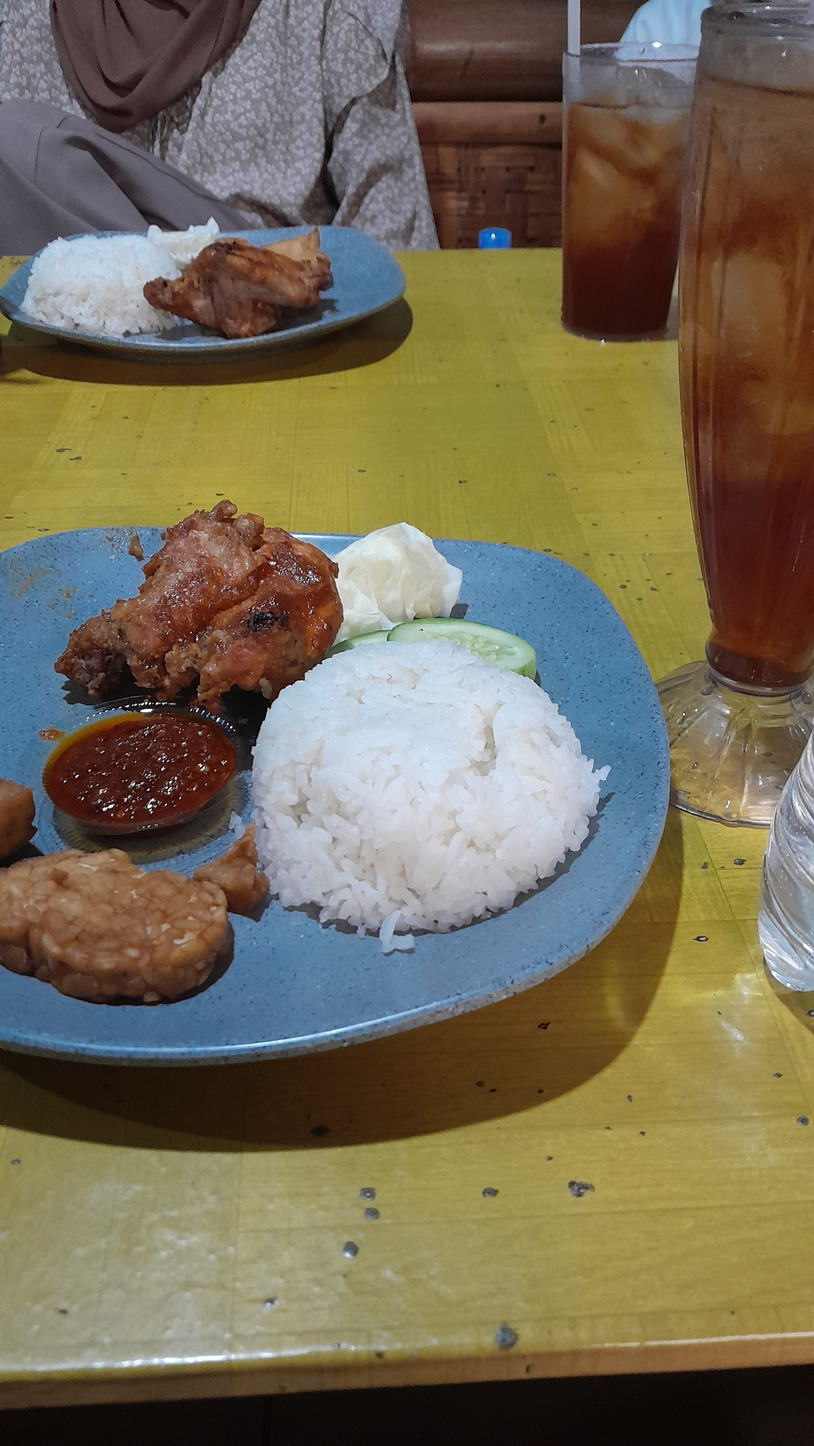buah_sayur_vitA: (349, 590, 551, 675)
daging: (60, 480, 342, 709)
kacang_legume: (0, 774, 253, 1015)
makanan_berpati: (264, 657, 612, 937)
